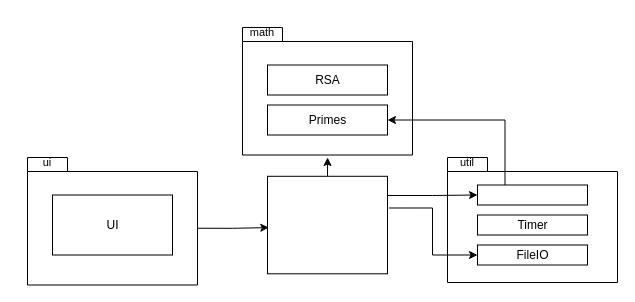
This 635x302 diagram has some shape labels left out. The box of each missing label's shape, as (x1, y1, x2, y2) in pixels:
Logic: (266, 175, 388, 274)
Testing: (476, 184, 588, 205)
